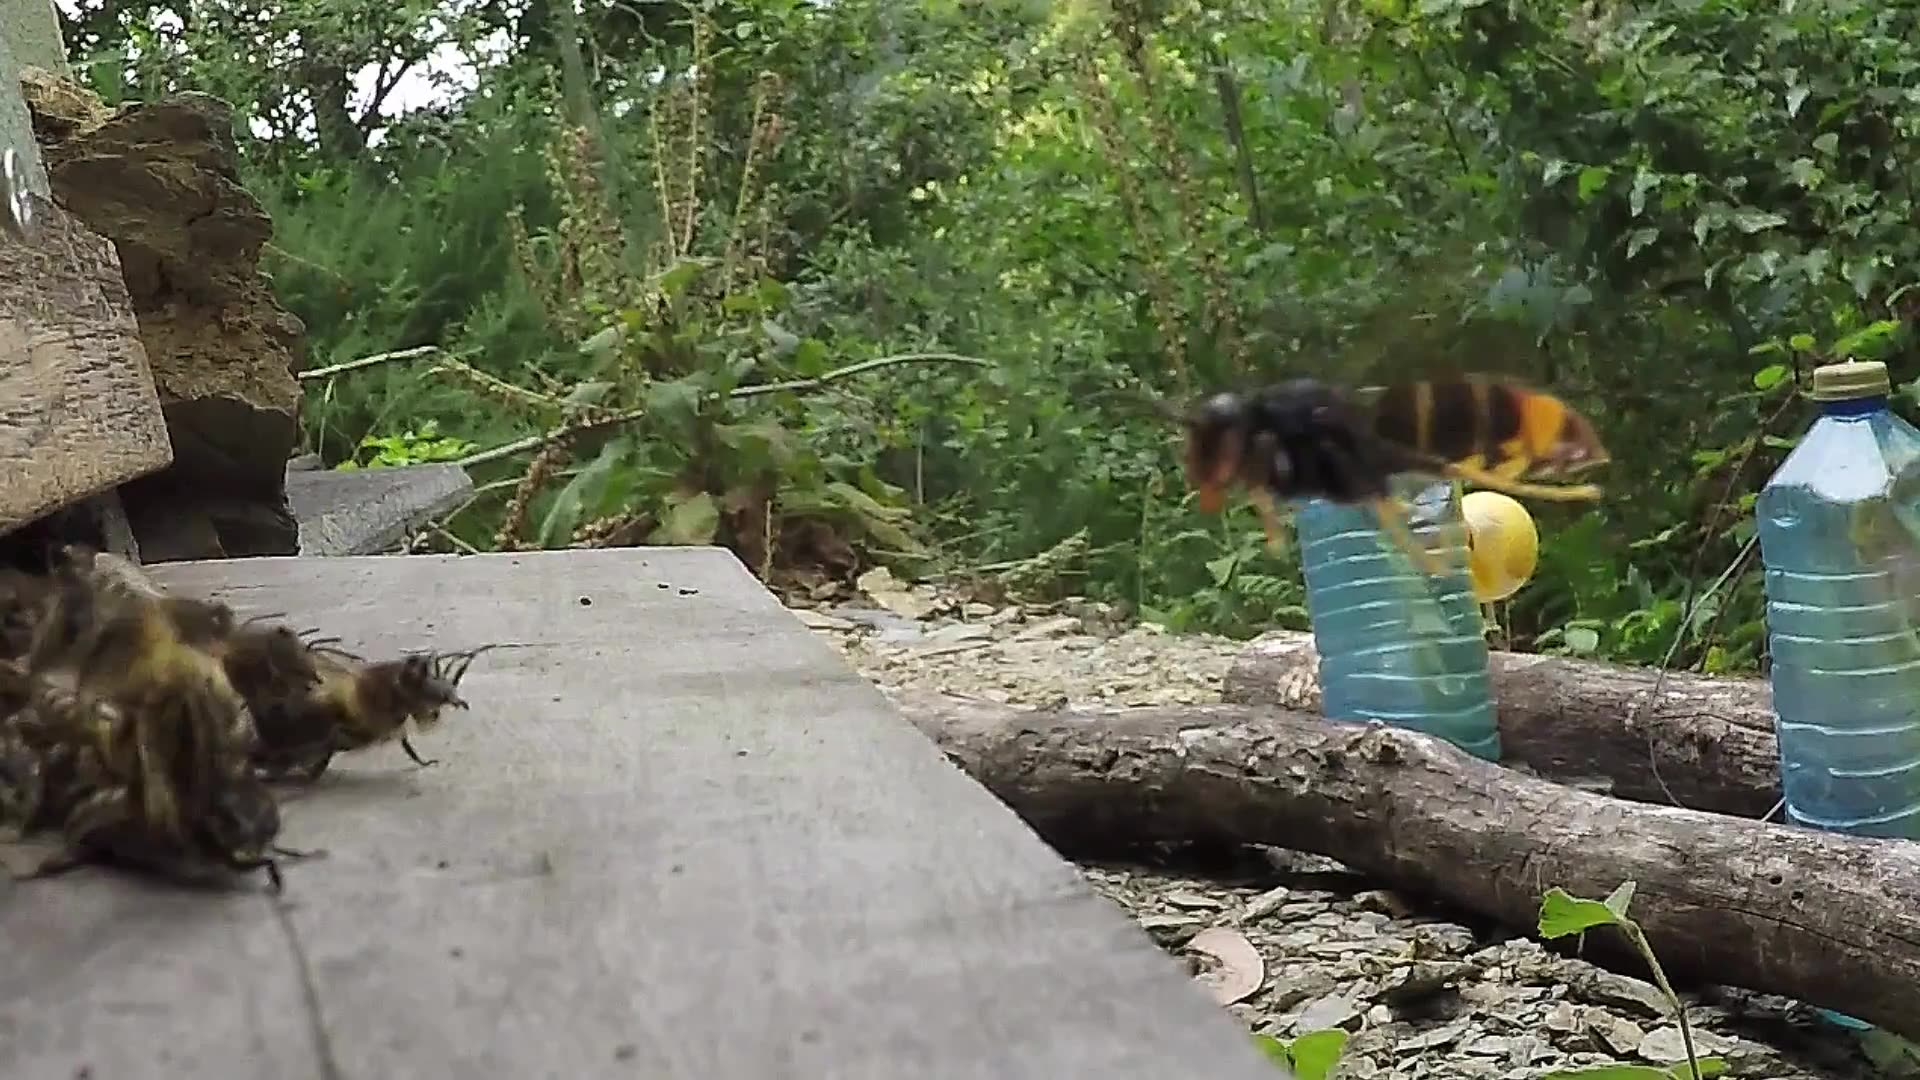bee: (1, 516, 299, 899), (266, 634, 477, 779)
hornet: (1174, 349, 1614, 541)
